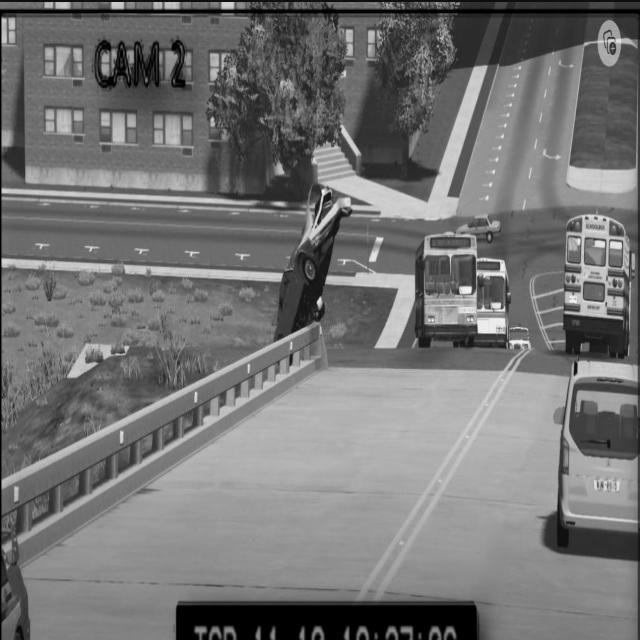accident: (271, 171, 356, 357)
vehicle: (559, 351, 640, 557), (562, 209, 634, 359), (412, 233, 478, 351), (476, 252, 512, 351), (456, 211, 506, 241), (509, 314, 535, 358)
